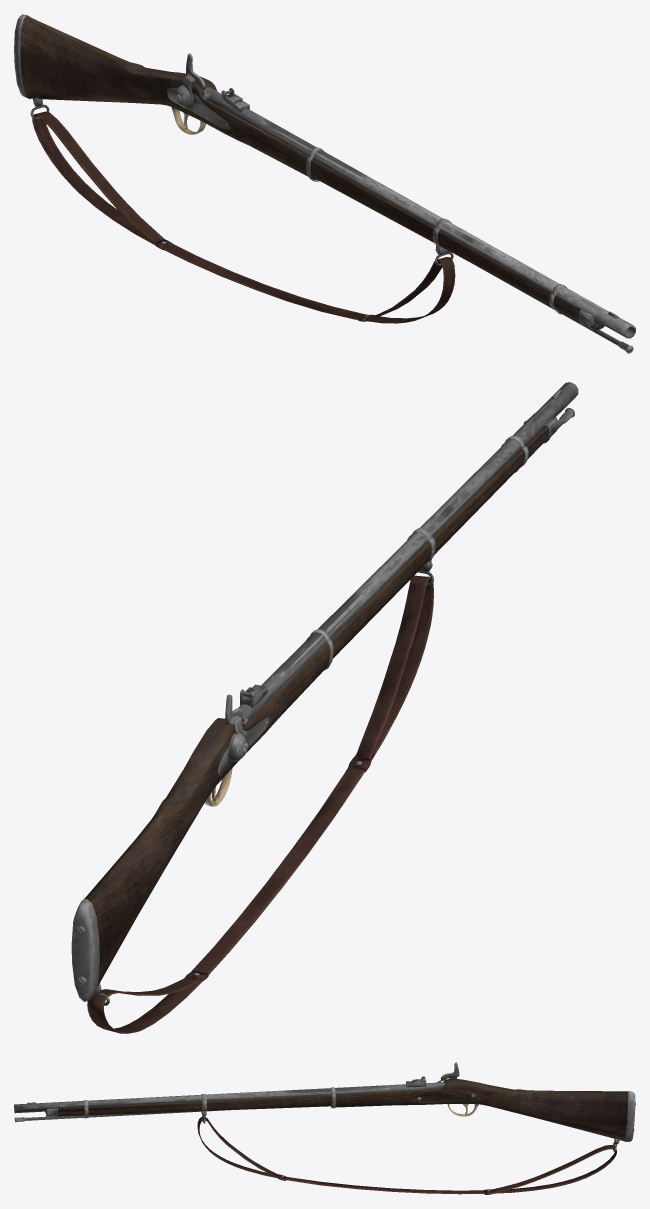
The model's file is MosqueteSample.fbx.
3 renders of one model, top to bottom at view 1: azimuth 30°, elevation 25°; view 2: azimuth 150°, elevation 25°; view 3: azimuth 270°, elevation 25°, orthographic. The views are drawn at different scales.
Parts seen in each view (by area): view 1: MosqueteLOD0; view 2: MosqueteLOD0; view 3: MosqueteLOD0.
Part boxes in pixels (x1,y1,x2,y2): MosqueteLOD0: (14,14,635,353); MosqueteLOD0: (71,382,578,1033); MosqueteLOD0: (14,1062,635,1194).
Size of what is drawn, in the model's own units: 19.97 by 33.63 by 145.
